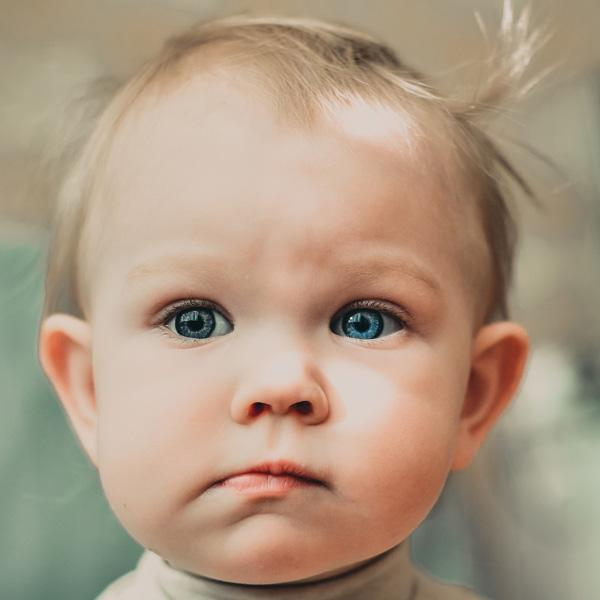Eyes: (140, 288, 246, 354), (322, 290, 419, 358)
